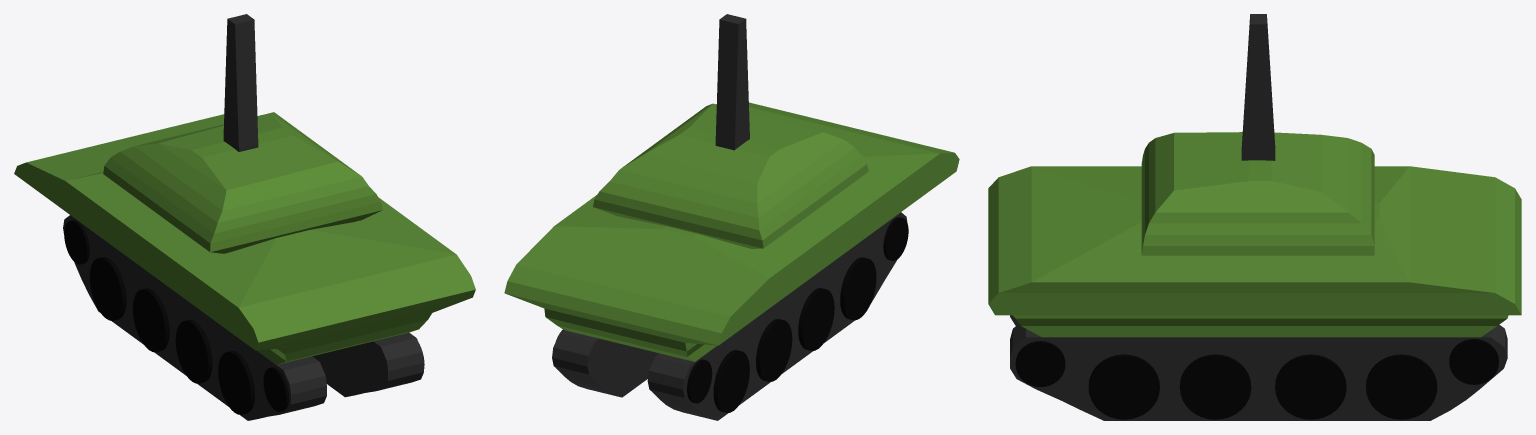
The model's file is tank.fbx.
3 renders of one model, left to right at view 1: azimuth 30°, elevation 25°; view 2: azimuth 150°, elevation 25°; view 3: azimuth 270°, elevation 25°, orthographic. The views are drawn at different scales.
Parts seen in each view (by area): view 1: Cube.002, Cube, Cube.003, Cube.004, Cube.001, Cylinder.008, Cylinder.010, Cylinder.011, Cylinder.009, Cylinder.006, Cylinder.007; view 2: Cube.002, Cube, Cube.003, Cube.004, Cube.001, Cylinder.009, Cylinder.008, Cylinder.011, Cylinder.010, Cylinder.007, Cylinder.006; view 3: Cube.002, Cube, Cube.004, Cube.001, Cylinder.003, Cylinder.001, Cylinder.002, Cylinder.004, Cylinder, Cylinder.005.
Boxes of the visible parts, left/top/right/bottom form: Cube.002: left=14, top=114, right=475, bottom=364; Cube: left=103, top=112, right=382, bottom=253; Cube.003: left=63, top=215, right=326, bottom=420; Cube.004: left=313, top=332, right=423, bottom=397; Cube.001: left=223, top=14, right=258, bottom=151; Cylinder.008: left=175, top=319, right=212, bottom=383; Cylinder.010: left=132, top=288, right=169, bottom=352; Cylinder.011: left=89, top=257, right=126, bottom=320; Cylinder.009: left=218, top=351, right=254, bottom=414; Cylinder.006: left=263, top=367, right=288, bottom=411; Cylinder.007: left=64, top=220, right=89, bottom=264; Cube.002: left=504, top=102, right=959, bottom=361; Cube: left=593, top=103, right=868, bottom=248; Cube.003: left=647, top=212, right=907, bottom=420; Cube.004: left=552, top=330, right=659, bottom=397; Cube.001: left=715, top=14, right=749, bottom=150; Cylinder.009: left=840, top=257, right=876, bottom=320; Cylinder.008: left=798, top=288, right=834, bottom=350; Cylinder.011: left=713, top=350, right=749, bottom=412; Cylinder.010: left=756, top=319, right=792, bottom=381; Cylinder.007: left=687, top=359, right=712, bottom=403; Cylinder.006: left=883, top=217, right=908, bottom=260; Cube.002: left=988, top=166, right=1521, bottom=337; Cube: left=1141, top=132, right=1374, bottom=255; Cube.004: left=1010, top=323, right=1507, bottom=420; Cube.001: left=1241, top=14, right=1275, bottom=160; Cylinder.003: left=1179, top=354, right=1251, bottom=419; Cylinder.001: left=1366, top=354, right=1437, bottom=419; Cylinder.002: left=1275, top=354, right=1346, bottom=419; Cylinder.004: left=1088, top=354, right=1159, bottom=419; Cylinder: left=1449, top=339, right=1498, bottom=384; Cylinder.005: left=1015, top=341, right=1065, bottom=386.
Bounding box in the file's own units: 133 × 195 × 258.
